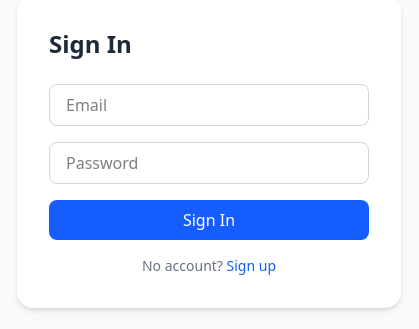
it: AuthForm › switches to sign up form
Click the button "Sign up".
click(251, 266)  # box [227,256,276,276]
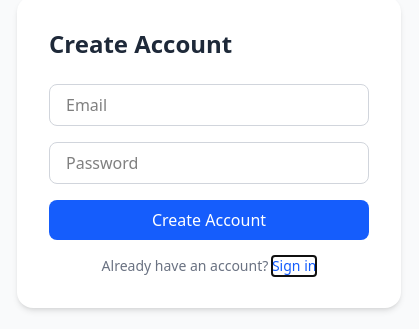
Check: the heading "Create Account" is shown, box [49,27,232,60]
